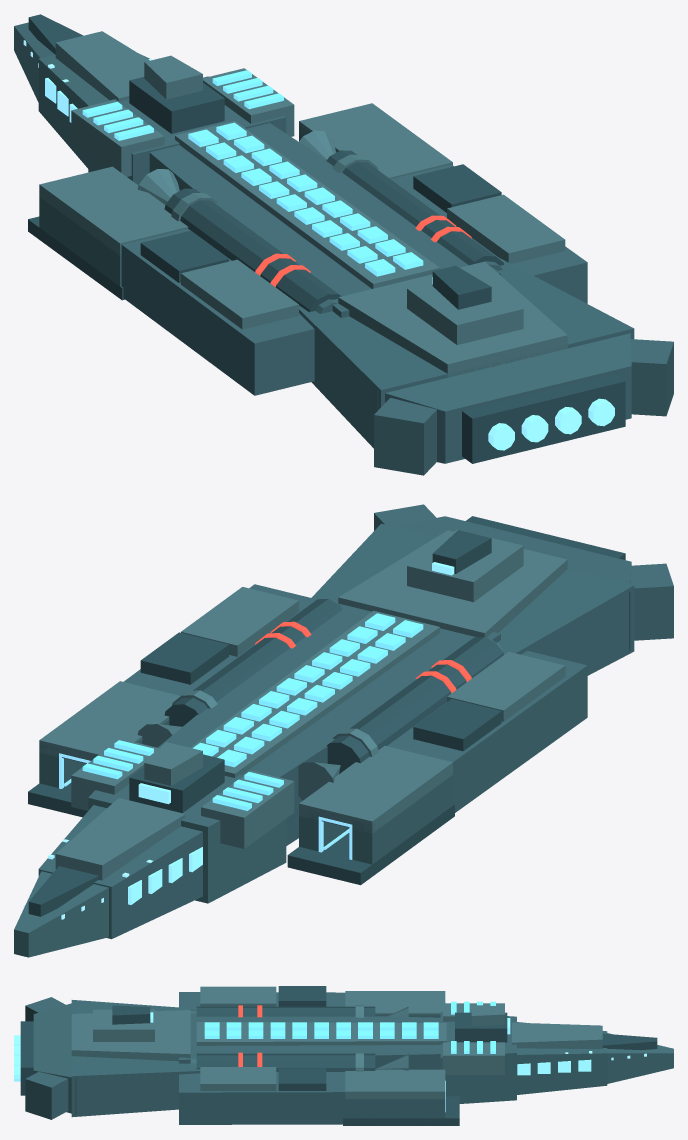
The model's file is choirship.glb.
The picture shows the model from 3 angles, top to bottom: view 1: azimuth 30°, elevation 25°; view 2: azimuth 150°, elevation 25°; view 3: azimuth 270°, elevation 25°; orthographic projection. The views are drawn at different scales.
Parts seen in each view (by area): view 1: Choir_SternMain, Choir_Sponson_Port, Choir_Hull_Main, Choir_SternCap, Choir_SternDeck, Choir_SternEngineBlock, Choir_BayRoof_Port, Choir_SpineFrame, Choir_Nacelle_Port, Choir_BayRoof_Stbd, Choir_SponsonStep_Port, Choir_SponsonStep_Stbd (+21 smaller); view 2: Choir_SternMain, Choir_Hull_Main, Choir_Sponson_Port, Choir_SternDeck, Choir_BayRoof_Port, Choir_ProwBody, Choir_SpineFrame, Choir_Nacelle_Port, Choir_BayRoof_Stbd, Choir_BridgeBase, Choir_ProwPlate, Choir_ProwTip (+24 smaller); view 3: Choir_SternMain, Choir_Sponson_Stbd, Choir_Hull_Main, Choir_SternDeck, Choir_ProwBody, Choir_SpineFrame, Choir_BayRoof_Stbd, Choir_SternCap, Choir_BridgeBase, Choir_Nacelle_Stbd, Choir_ProwPlate, Choir_BayRoof_Port (+20 smaller).
Boxes of the visible parts, x1=… form: Choir_SternMain: x1=299, y1=255, x2=634, y2=448; Choir_Sponson_Port: x1=121, y1=228, x2=314, y2=395; Choir_Hull_Main: x1=149, y1=123, x2=500, y2=317; Choir_SternCap: x1=377, y1=333, x2=631, y2=463; Choir_SternDeck: x1=338, y1=261, x2=567, y2=377; Choir_SternEngineBlock: x1=462, y1=373, x2=625, y2=463; Choir_BayRoof_Port: x1=39, y1=166, x2=188, y2=255; Choir_SpineFrame: x1=175, y1=121, x2=439, y2=288; Choir_Nacelle_Port: x1=164, y1=188, x2=341, y2=312; Choir_BayRoof_Stbd: x1=299, y1=103, x2=452, y2=178; Choir_SponsonStep_Port: x1=181, y1=259, x2=298, y2=329; Choir_SponsonStep_Stbd: x1=447, y1=194, x2=565, y2=263; Choir_SternMain: x1=295, y1=523, x2=634, y2=675; Choir_Hull_Main: x1=158, y1=595, x2=500, y2=845; Choir_Sponson_Port: x1=387, y1=651, x2=587, y2=812; Choir_SternDeck: x1=338, y1=530, x2=567, y2=637; Choir_BayRoof_Port: x1=299, y1=746, x2=452, y2=833; Choir_ProwBody: x1=38, y1=805, x2=202, y2=939; Choir_SpineFrame: x1=190, y1=610, x2=439, y2=777; Choir_Nacelle_Port: x1=326, y1=637, x2=503, y2=773; Choir_BayRoof_Stbd: x1=39, y1=681, x2=180, y2=763; Choir_BridgeBase: x1=88, y1=775, x2=286, y2=903; Choir_ProwPlate: x1=55, y1=798, x2=185, y2=880; Choir_ProwTip: x1=14, y1=871, x2=108, y2=957; Choir_SternMain: x1=71, y1=1000, x2=200, y2=1117; Choir_Sponson_Stbd: x1=179, y1=1072, x2=345, y2=1124; Choir_Hull_Main: x1=179, y1=1013, x2=440, y2=1069; Choir_SternDeck: x1=71, y1=1010, x2=190, y2=1061; Choir_ProwBody: x1=517, y1=1022, x2=607, y2=1094; Choir_SpineFrame: x1=196, y1=1022, x2=446, y2=1045; Choir_BayRoof_Stbd: x1=345, y1=1069, x2=445, y2=1099; Choir_SternCap: x1=33, y1=1003, x2=76, y2=1114; Choir_BridgeBase: x1=440, y1=1011, x2=516, y2=1103; Choir_Nacelle_Stbd: x1=196, y1=1053, x2=375, y2=1071; Choir_ProwPlate: x1=512, y1=1022, x2=602, y2=1048; Choir_BayRoof_Port: x1=345, y1=991, x2=445, y2=1017.
Bounding box in the file's own units: 10 × 3.83 × 27.72.
